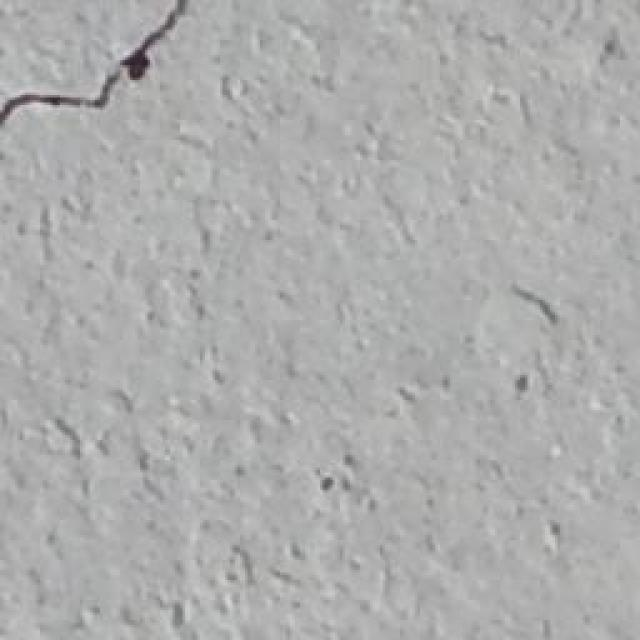concrete-crack: (0, 2, 193, 138)
